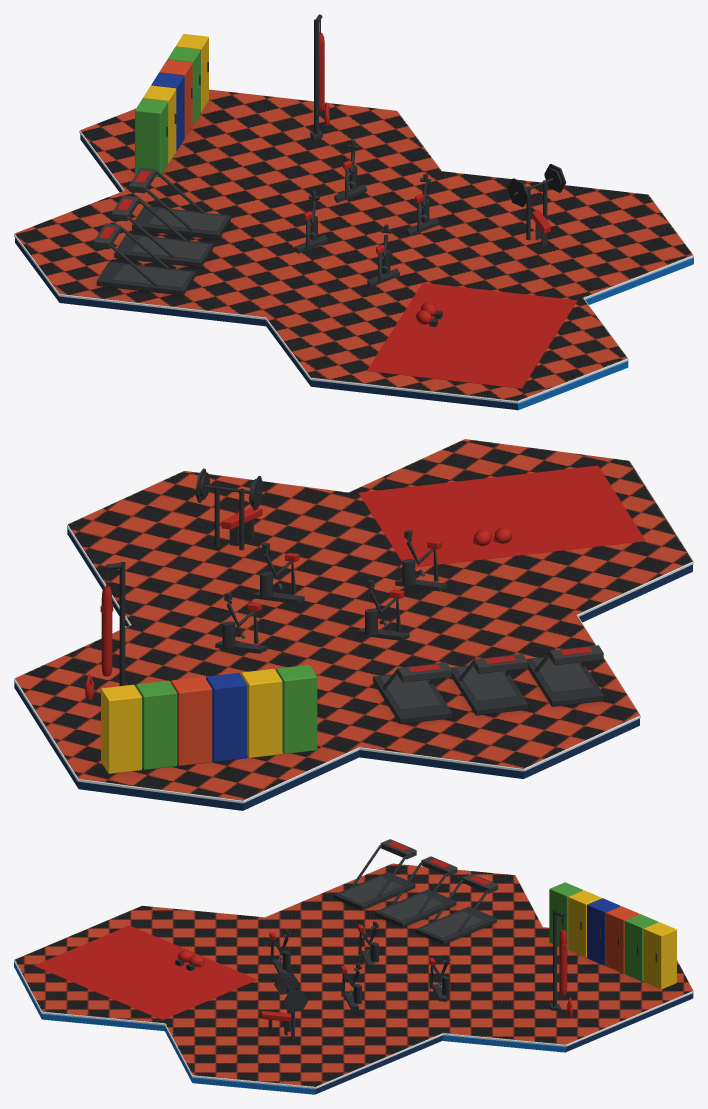
Rendered from field_cm05_01.glb.
The picture shows the model from 3 angles, top to bottom: view 1: azimuth 30°, elevation 25°; view 2: azimuth 150°, elevation 25°; view 3: azimuth 270°, elevation 25°; orthographic projection. The views are drawn at different scales.
Visible parts, largest first — view 1: field_cm05_01-runtime-static; view 2: field_cm05_01-runtime-static; view 3: field_cm05_01-runtime-static.
Boxes of the visible parts, left/top/right/bottom form: field_cm05_01-runtime-static: left=14, top=14, right=693, bottom=410; field_cm05_01-runtime-static: left=14, top=439, right=693, bottom=810; field_cm05_01-runtime-static: left=14, top=839, right=693, bottom=1094.
Bounding box in the file's own units: 14.93 × 3.3 × 19.17.
1 material, 1 textured.
